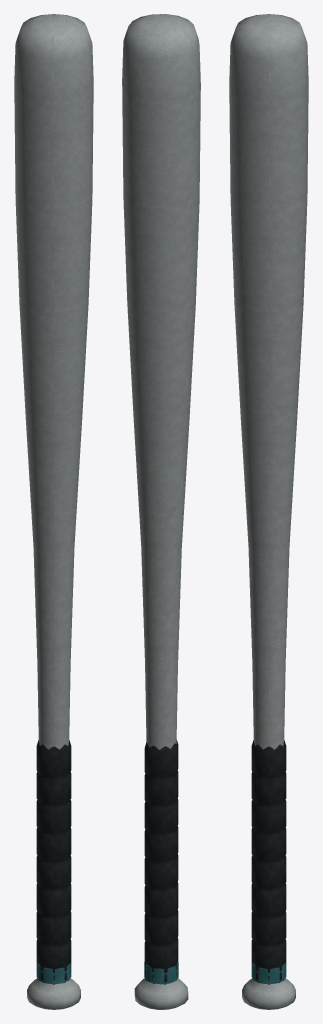
The model's file is aluminum_bat.glb.
3 views of the same model, side by side, from view 1: azimuth 90°, elevation 25°; view 2: azimuth 150°, elevation 25°; view 3: azimuth 270°, elevation 25° (orthographic).
Parts seen in each view (by area): view 1: Bat_Body; view 2: Bat_Body; view 3: Bat_Body.
Part boxes in pixels (bbox=[...]): Bat_Body: bbox=[14, 14, 93, 1009]; Bat_Body: bbox=[122, 14, 200, 1009]; Bat_Body: bbox=[229, 14, 308, 1009].
Bounding box in the file's own units: 0.062 × 0.843 × 0.062.
3 materials, 3 textured.
